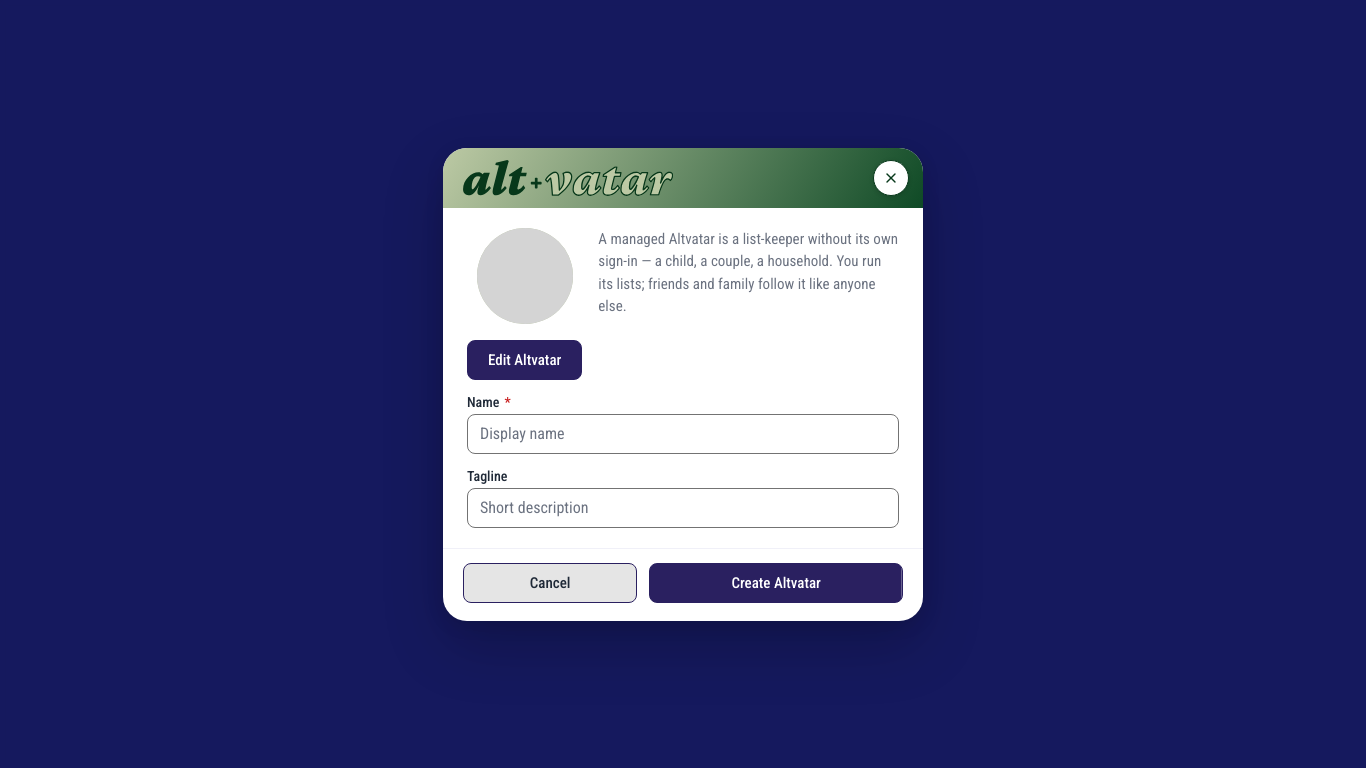
Test: NewProfileForm › Submission › CreationFails_KeepsOverlayMounted-RendersMessageInline-ToastError-NoNavigation
Click the button "Create Altvatar" at point(776, 582), box [649,562,903,602]
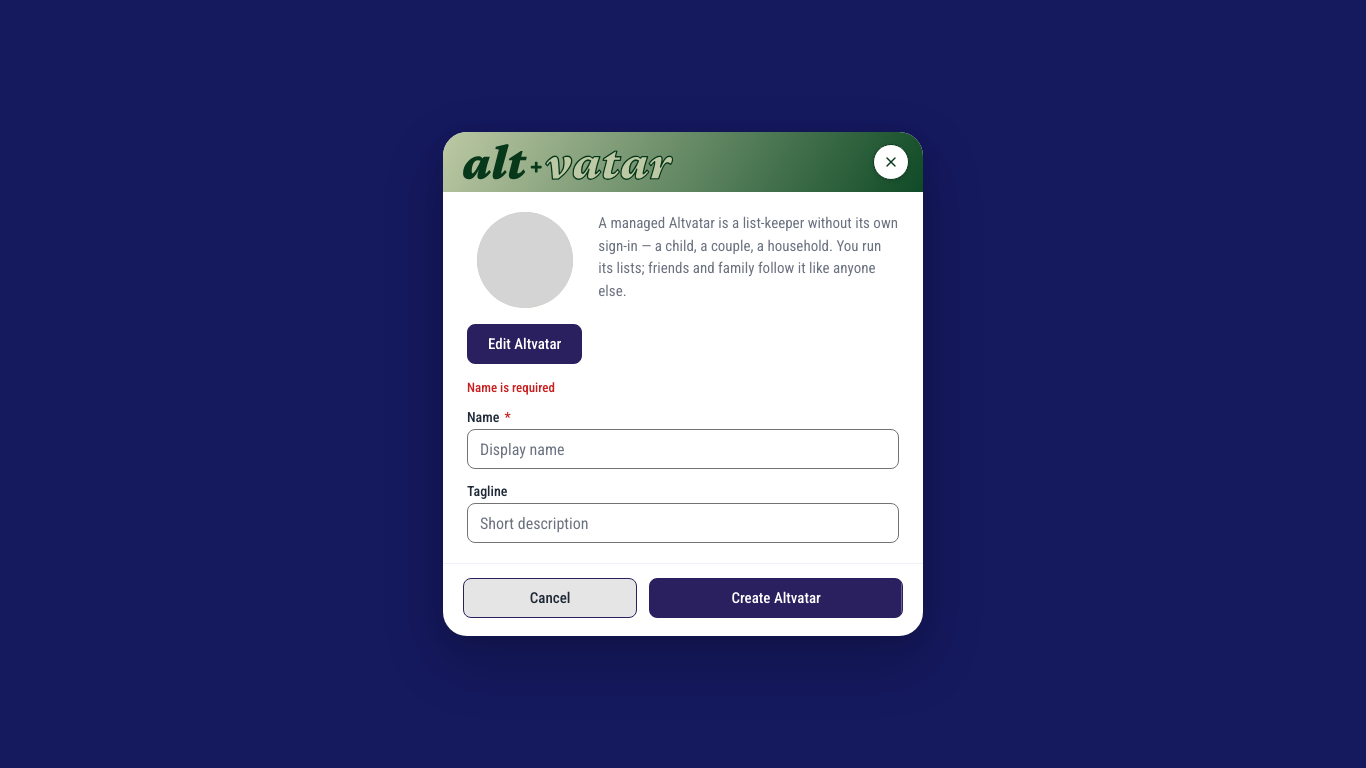
Expected: the button "Create Altvatar" is shown, [649,578,903,618]
Expected: the text "Name is required" is shown, [467,380,555,395]
